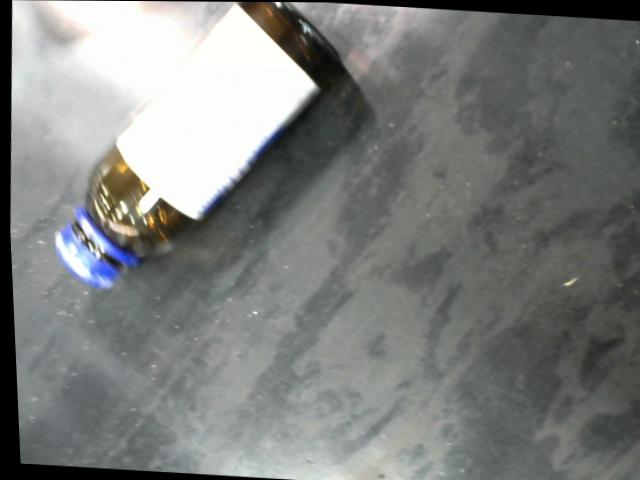can: (41, 1, 348, 298)
